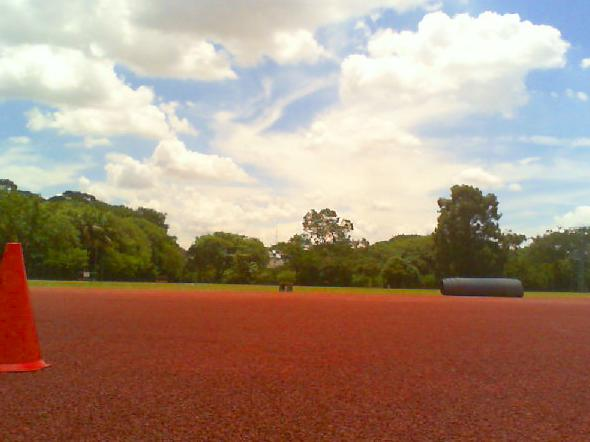0 cone: (0, 242, 52, 374)
